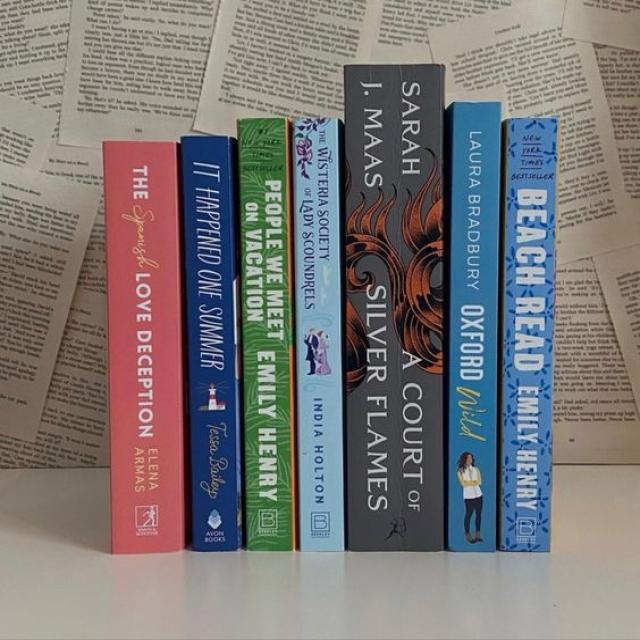book: (345, 64, 445, 550), (104, 142, 185, 553), (498, 118, 556, 551), (445, 102, 500, 551), (238, 118, 295, 550), (182, 135, 241, 550), (294, 120, 343, 550)
